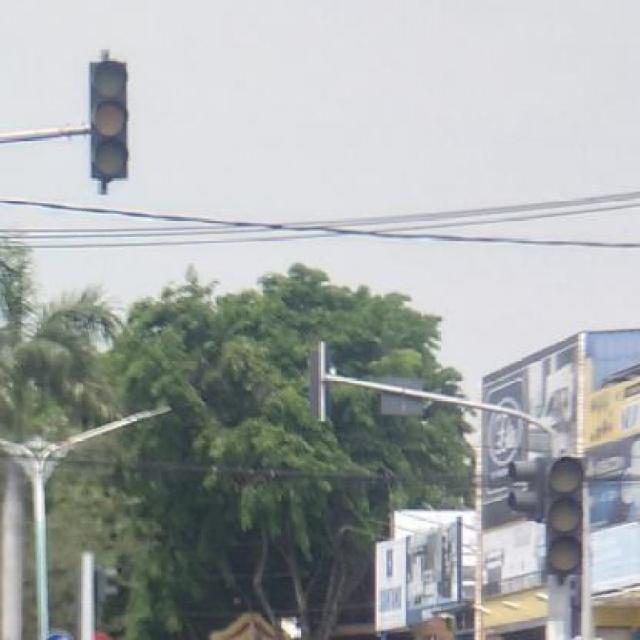traffic light: (544, 455, 583, 575), (90, 62, 128, 178)
